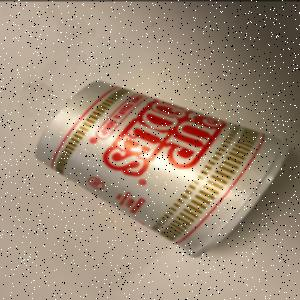Cup: (35, 81, 293, 259)
